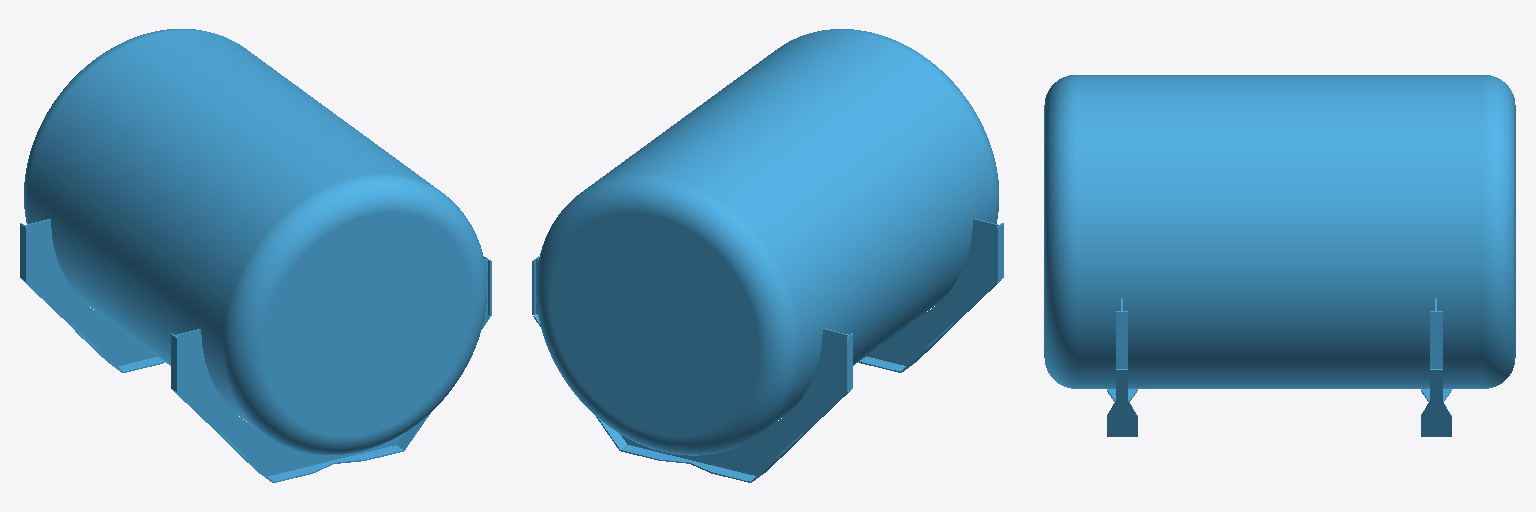
The robot description file, URDF, robot "halfopen_box":
<?xml version="1.0"?>
<robot name="halfopen_box" xmlns:xacro="http://wiki.ros.org/xacro">

<link name="work"/>

<joint name="work_to_wobj" type="fixed">
  <parent link="work"/>
  <child link="wobj"/>
  <origin xyz="0 0 0" rpy="0 0 0" />
</joint>

<link name="wobj">
  <visual>
    <origin xyz="0 0 0" rpy="0 0 0"/>
    <geometry>
      <mesh filename="tank.stl"  scale=".001 .001 .001"/>
    </geometry>
    <material name="green"/>
  </visual>
  <collision>
    <origin xyz="0 0 0" rpy="0 0 0"/>
    <geometry>
      <mesh filename="tank.stl"  scale=".001 .001 .001"/>
    </geometry>
  </collision>
</link>
</robot>

--- What the picture shows (computed from the rendered views, not written in the file) ---
3 views of the same robot in one strip: view 1: azimuth 30°, elevation 25°; view 2: azimuth 150°, elevation 25°; view 3: azimuth 270°, elevation 25° (orthographic).
Robot: halfopen_box — 2 links, 1 joints (1 fixed); root link work; default pose: every joint at zero.
Links seen in each view (by area): view 1: wobj; view 2: wobj; view 3: wobj.
Link boxes in pixels (bbox=[...]): wobj: bbox=[20, 29, 491, 482]; wobj: bbox=[532, 29, 1003, 482]; wobj: bbox=[1044, 75, 1515, 436].
Bounding box of the posed robot: 2.42 × 3 × 2.21 m (x, y, z).
1 mesh visuals loaded from 1 distinct referenced files (1 binary STL).